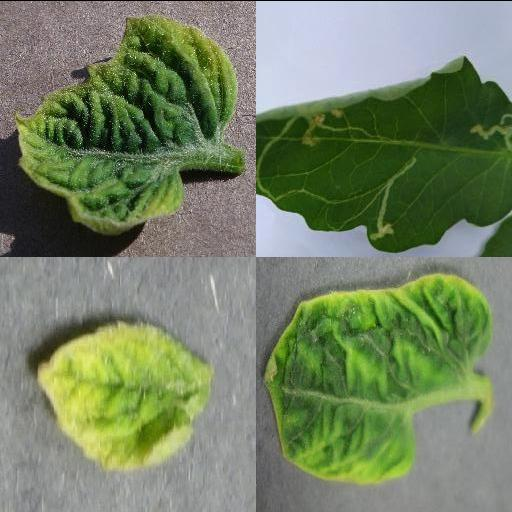Leaf Miner: (256, 56, 512, 252)
Yellow Leaf Curl Virus: (263, 273, 495, 487), (15, 17, 239, 233), (36, 319, 212, 471)
